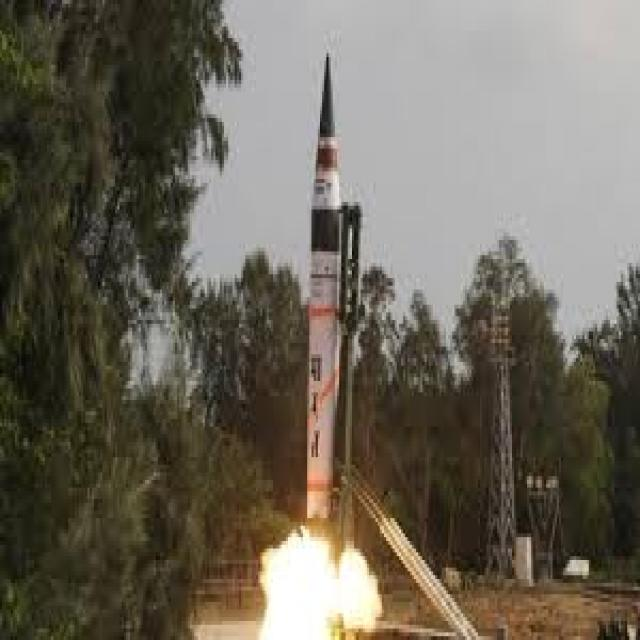missile: (294, 44, 356, 544)
